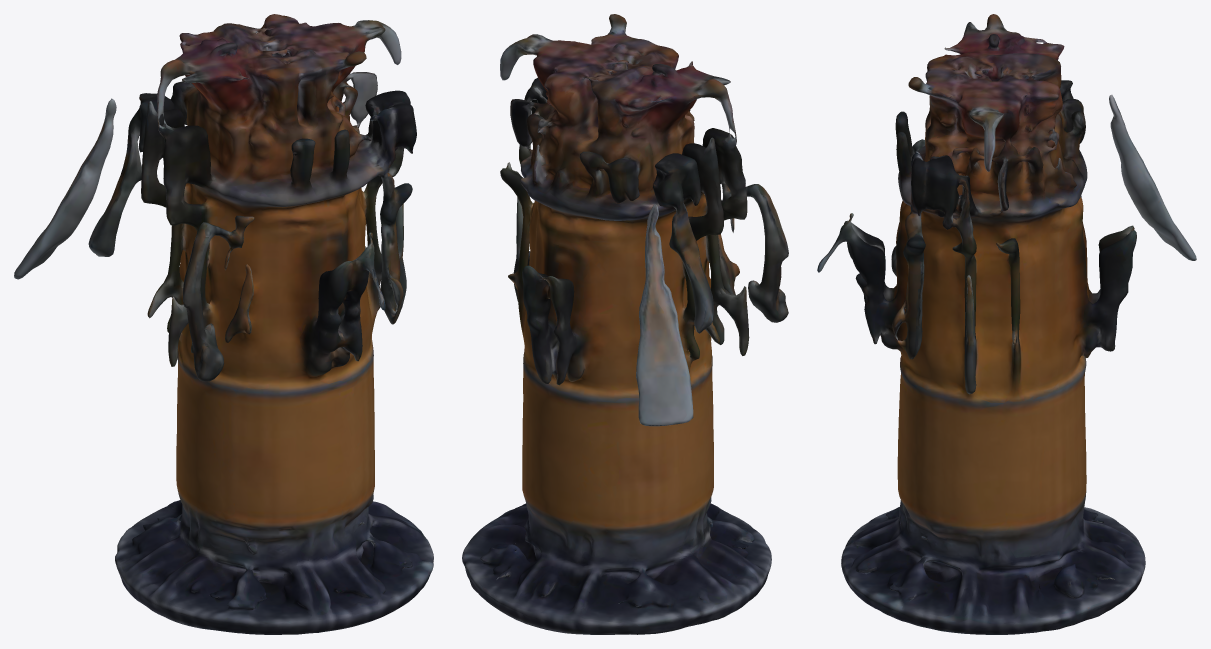
The model's file is eb3d2935616a_rocket_engine__3d_a.fbx.
The picture shows the model from 3 angles, left to right: view 1: azimuth 30°, elevation 25°; view 2: azimuth 150°, elevation 25°; view 3: azimuth 270°, elevation 25°; orthographic projection. The views are drawn at different scales.
Visible parts, largest first — view 1: high_poly; view 2: high_poly; view 3: high_poly.
Boxes of the visible parts, x1,y1,x2,y2 form: high_poly: (14,14,433,634); high_poly: (462,14,788,634); high_poly: (817,14,1196,634).
Bounding box in the file's own units: 58.96 × 100 × 66.42.
